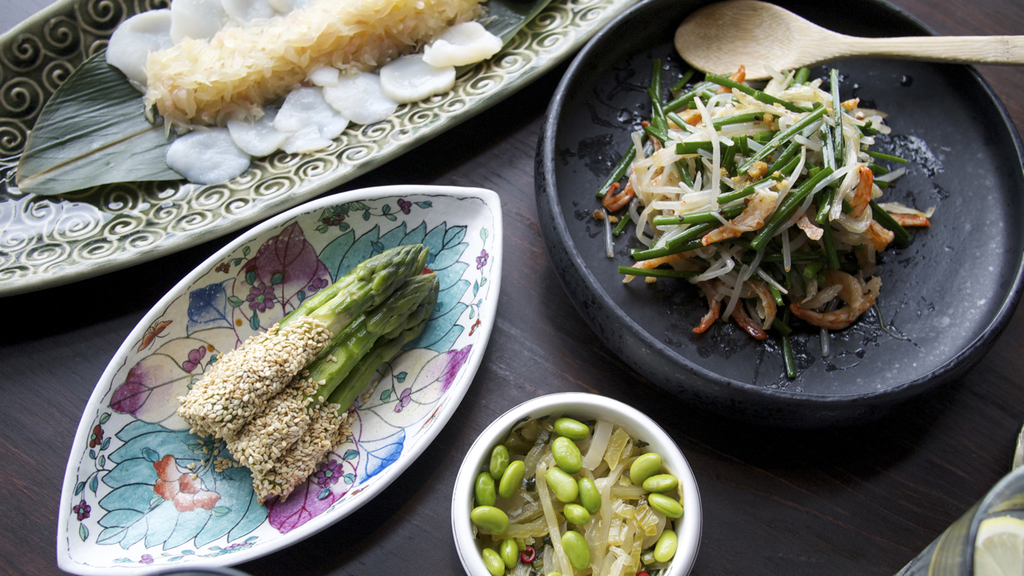salad: (590, 67, 933, 380)
